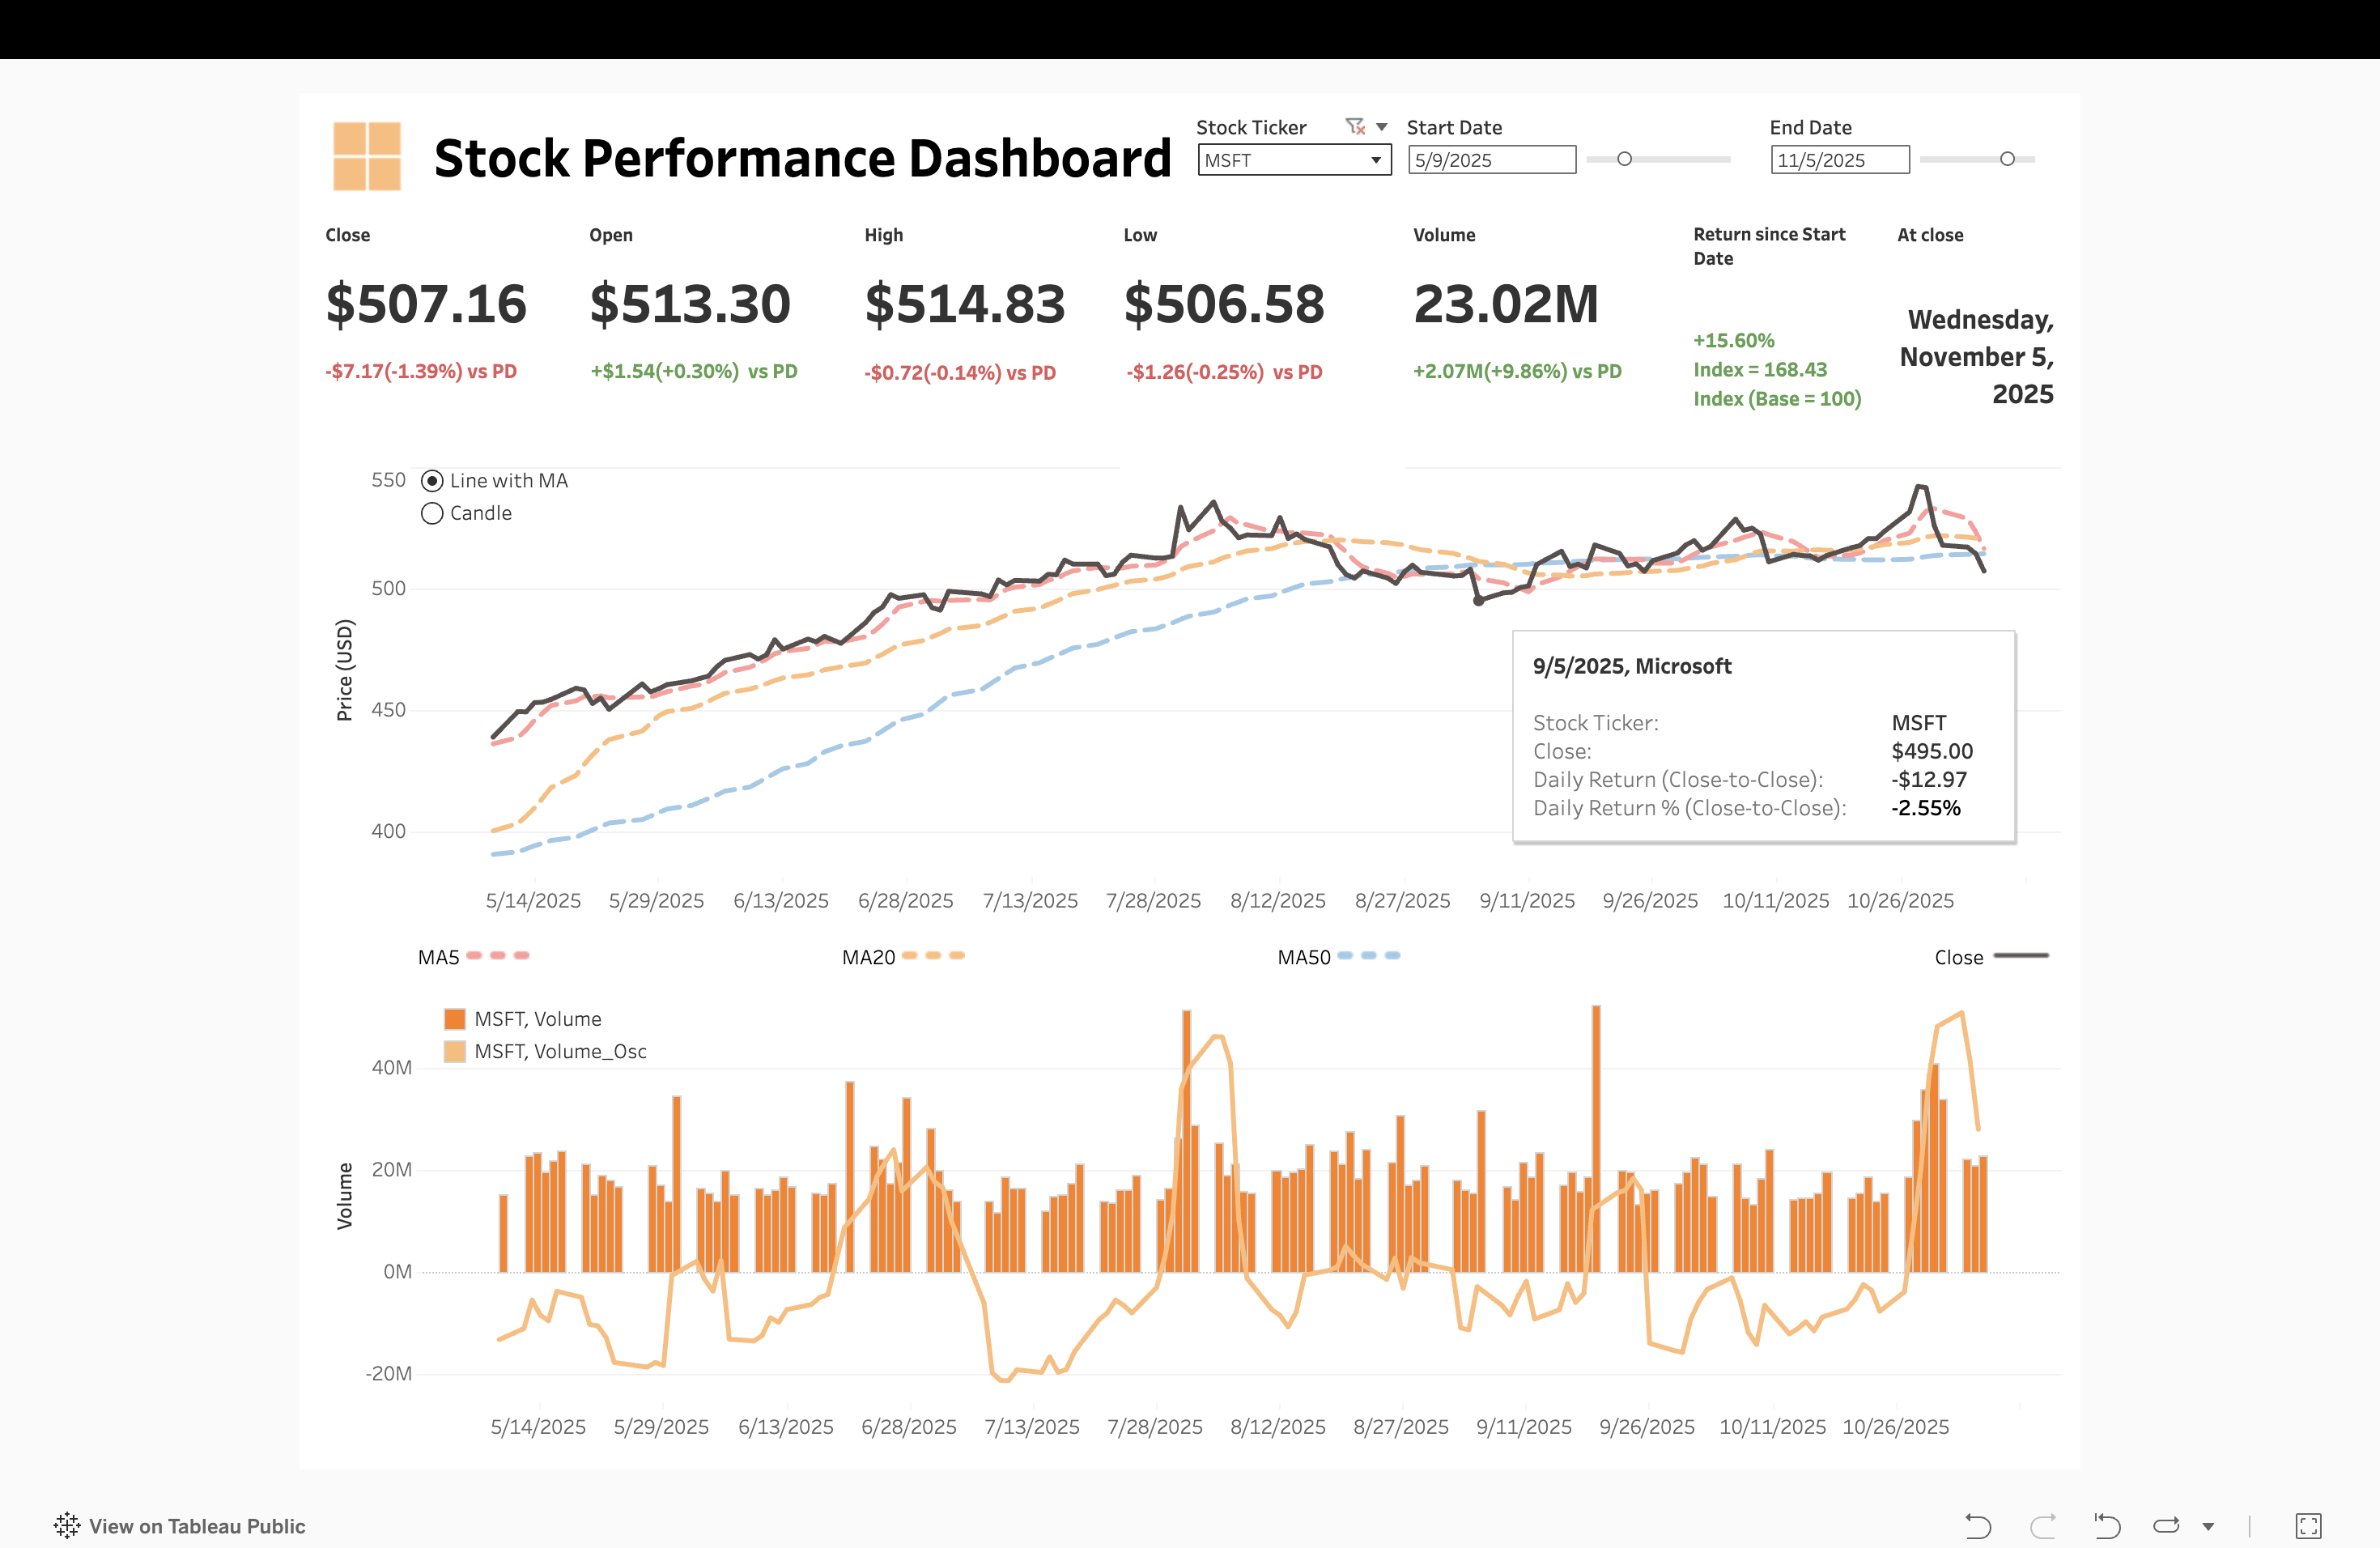

This screenshot's page, from the dashboard's own definition file:
{"tool":"tableau","page":{"name":"Dashboard 2","canvas":[1100,850],"ordinal":0},"visuals":[{"type":"worksheet","title":"Logo","mark":"Shape","cols":["Table Name","Calculation_6930758386276937736"],"box":[8,8,71,61]},{"type":"text","box":[79,8,471,61]},{"type":"filter","title":"Close ","param":"[federated.0ad32sr0dxy0wy13120sg0xdmw02].[none:Table Name:nk]","box":[550,8,130,61]},{"type":"parameter","param":"[Parameters].[Parameter 1]","box":[680,8,224,61]},{"type":"parameter","param":"[Parameters].[Parameter 2]","box":[904,8,188,61]},{"type":"worksheet","title":"Close ","mark":"Automatic","box":[8,69,163,96.8]},{"type":"worksheet","title":"Open","mark":"Automatic","box":[171,69,170,96.2]},{"type":"worksheet","title":"High","mark":"Automatic","box":[341,69,160,96.2]},{"type":"worksheet","title":"Low","mark":"Automatic","box":[501,69,179,96.2]},{"type":"worksheet","title":"Volume","mark":"Automatic","box":[680,69,172.7,96.2]},{"type":"worksheet","title":"Return since Start Date","mark":"Automatic","box":[852.6,69,119.6,170]},{"type":"worksheet","title":"Last Day Text ","mark":"Automatic","box":[972.3,69,119.7,170]},{"type":"worksheet","title":"Open compare PD","mark":"Automatic","box":[171,165.2,170,73.8]},{"type":"worksheet","title":"High compare PD","mark":"Automatic","box":[341,165.2,160,73.8]},{"type":"worksheet","title":"Low compare PD","mark":"Automatic","box":[501,165.2,179,73.8]},{"type":"worksheet","title":"Volume compare PD","mark":"Automatic","box":[680,165.2,172.7,73.8]},{"type":"worksheet","title":"Close comapare PD","mark":"Automatic","box":[8,165.8,163,73.2]},{"type":"parameter","param":"[Parameters].[Parameter 3]","box":[71,229,121,46]},{"type":"worksheet","title":"Price with MA","mark":"Line","rows":["Close"],"cols":["Date"],"box":[8,239,1084,1]},{"type":"worksheet","title":"Legend","mark":"Shape","cols":["Close"],"box":[8,240,1084,32]},{"type":"worksheet","title":"Candle Stick","mark":"GanttBar","rows":["Open","High"],"cols":["Date"],"box":[8,272,1084,285]},{"type":"worksheet","title":"Volume bar","mark":"Bar","rows":["Volume","Volume_Osc"],"cols":["Date"],"box":[8,557,1084,285]}]}

Visuals, with their boxes on the page's 1100x850 design canvas (x1, y1, x2, y2). These are canvas units, not pixel positions in the 2380x1548 screenshot, which may show the page scaled, cropped or inside an application window:
"Logo" worksheet (Shape marks): <bbox>8, 8, 79, 69</bbox>
text: <bbox>79, 8, 550, 69</bbox>
"Close " filter: <bbox>550, 8, 680, 69</bbox>
parameter: <bbox>680, 8, 904, 69</bbox>
parameter: <bbox>904, 8, 1092, 69</bbox>
"Close " worksheet: <bbox>8, 69, 171, 166</bbox>
"Open" worksheet: <bbox>171, 69, 341, 165</bbox>
"High" worksheet: <bbox>341, 69, 501, 165</bbox>
"Low" worksheet: <bbox>501, 69, 680, 165</bbox>
"Volume" worksheet: <bbox>680, 69, 853, 165</bbox>
"Return since Start Date" worksheet: <bbox>853, 69, 972, 239</bbox>
"Last Day Text " worksheet: <bbox>972, 69, 1092, 239</bbox>
"Open compare PD" worksheet: <bbox>171, 165, 341, 239</bbox>
"High compare PD" worksheet: <bbox>341, 165, 501, 239</bbox>
"Low compare PD" worksheet: <bbox>501, 165, 680, 239</bbox>
"Volume compare PD" worksheet: <bbox>680, 165, 853, 239</bbox>
"Close comapare PD" worksheet: <bbox>8, 166, 171, 239</bbox>
parameter: <bbox>71, 229, 192, 275</bbox>
"Price with MA" worksheet (Line marks): <bbox>8, 239, 1092, 240</bbox>
"Legend" worksheet (Shape marks): <bbox>8, 240, 1092, 272</bbox>
"Candle Stick" worksheet (GanttBar marks): <bbox>8, 272, 1092, 557</bbox>
"Volume bar" worksheet (Bar marks): <bbox>8, 557, 1092, 842</bbox>
